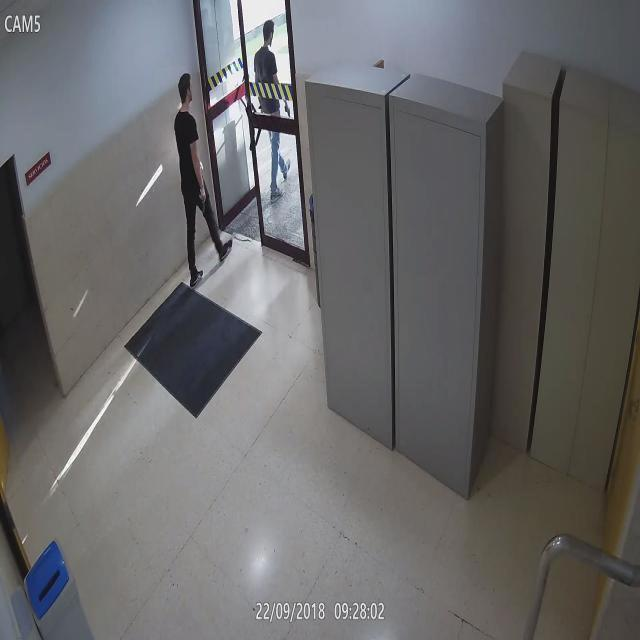weapon: (198, 193, 208, 216), (284, 105, 290, 116)
